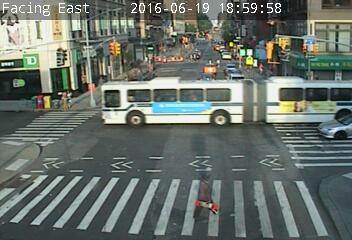neg: (194, 70, 231, 118), (42, 71, 73, 112), (288, 43, 317, 82), (300, 115, 329, 154), (12, 153, 41, 190), (93, 185, 121, 222), (103, 116, 129, 151), (55, 132, 79, 164), (274, 181, 297, 213), (91, 29, 112, 58), (165, 141, 186, 169), (138, 93, 155, 115), (255, 102, 271, 124), (154, 34, 170, 55)
pos: (187, 168, 224, 218)
